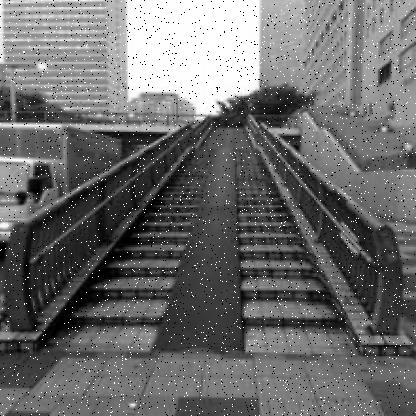stair_up: (74, 277, 350, 388)
